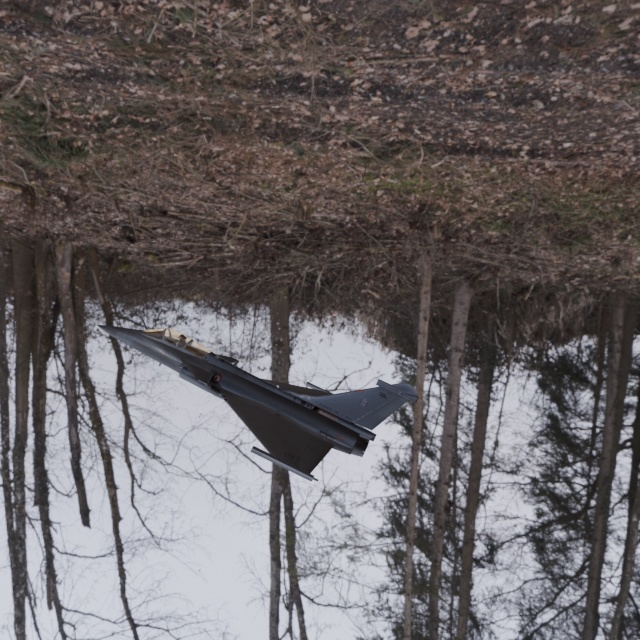dassault_rafale: (35, 251, 427, 521)
